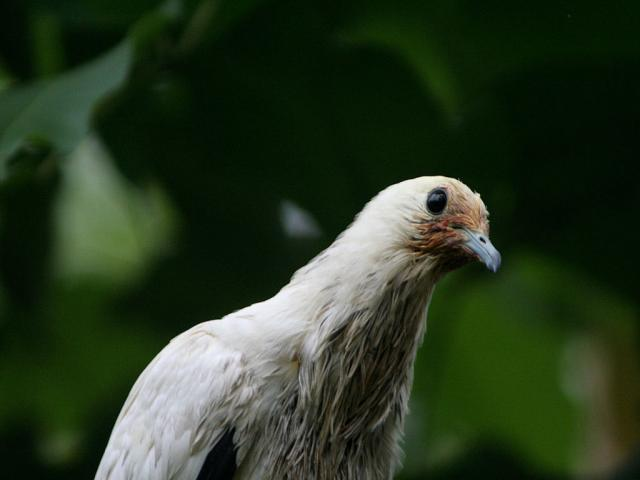Bird: (94, 174, 504, 480)
